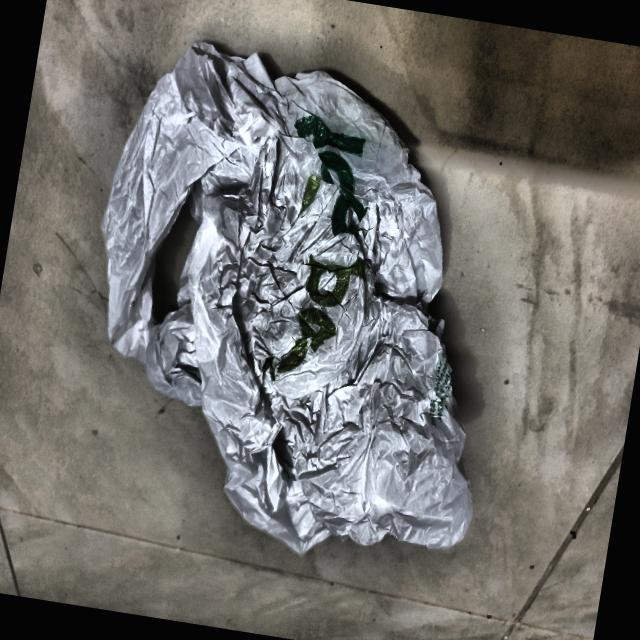plastic bag: (43, 14, 550, 604)
